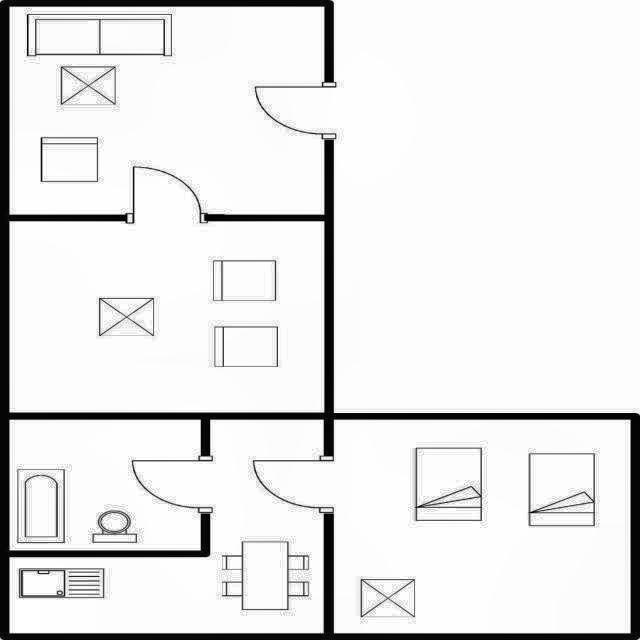room: (9, 419, 323, 633), (9, 7, 324, 213), (334, 420, 629, 632), (9, 221, 324, 413), (9, 420, 200, 551)
